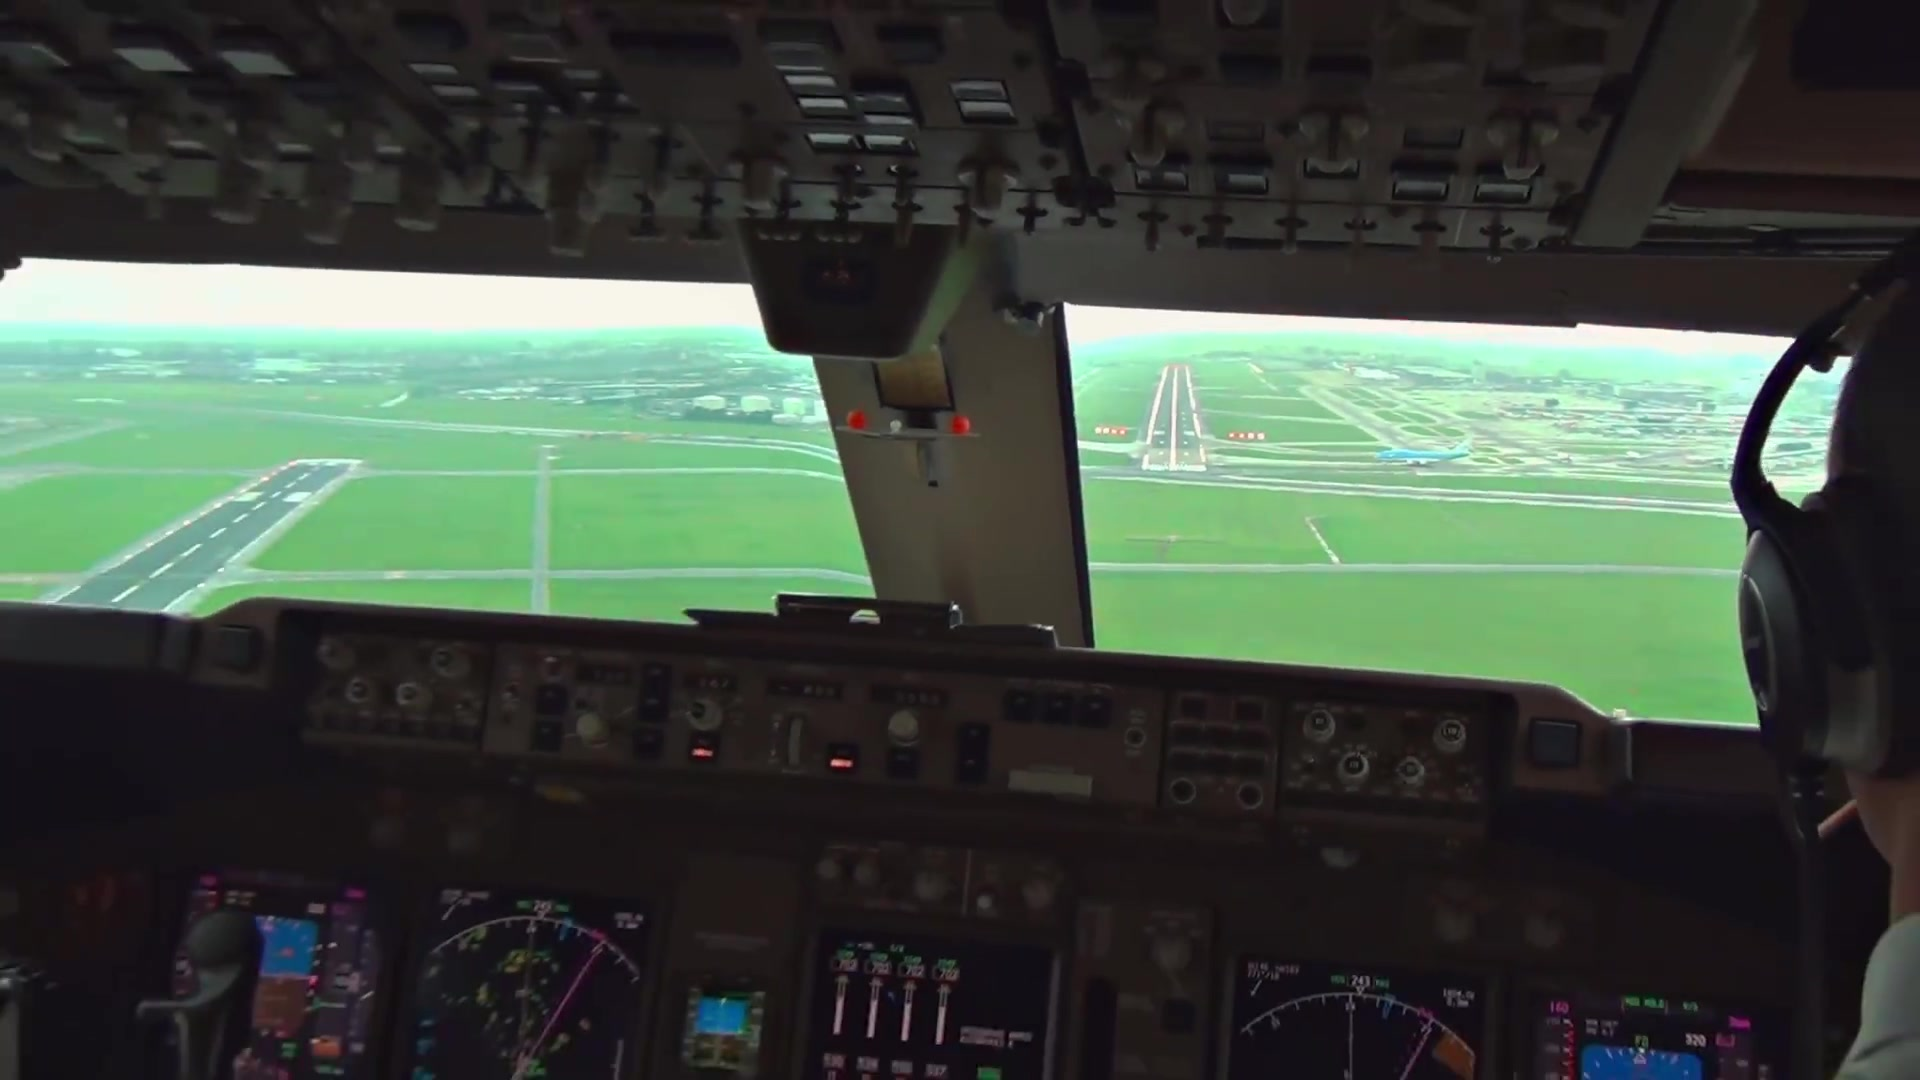runway: (33, 451, 363, 617), (1137, 363, 1209, 475)
